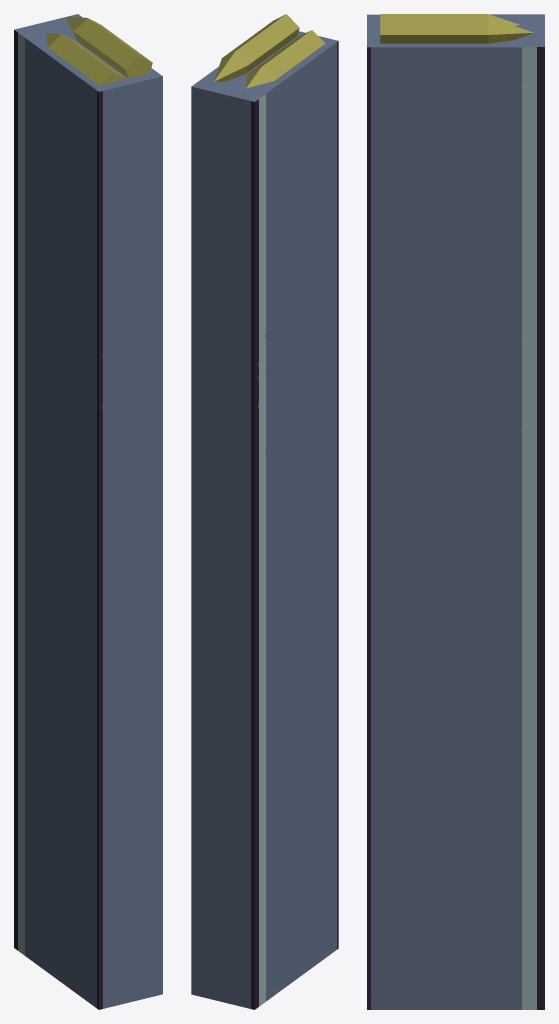
The model's file is magazine.glb.
The picture shows the model from 3 angles, left to right: view 1: azimuth 30°, elevation 25°; view 2: azimuth 150°, elevation 25°; view 3: azimuth 270°, elevation 25°; orthographic projection. The views are drawn at different scales.
Visible parts, largest first — view 1: magazine; view 2: magazine; view 3: magazine.
Boxes of the visible parts, x1,y1,x2,y2 form: magazine: (14, 14, 162, 1009); magazine: (191, 14, 338, 1009); magazine: (367, 14, 544, 1009).
Bounding box in the file's own units: 0.0551 × 0.7703 × 0.1263.
Materials: 1 (1 with a texture image).
